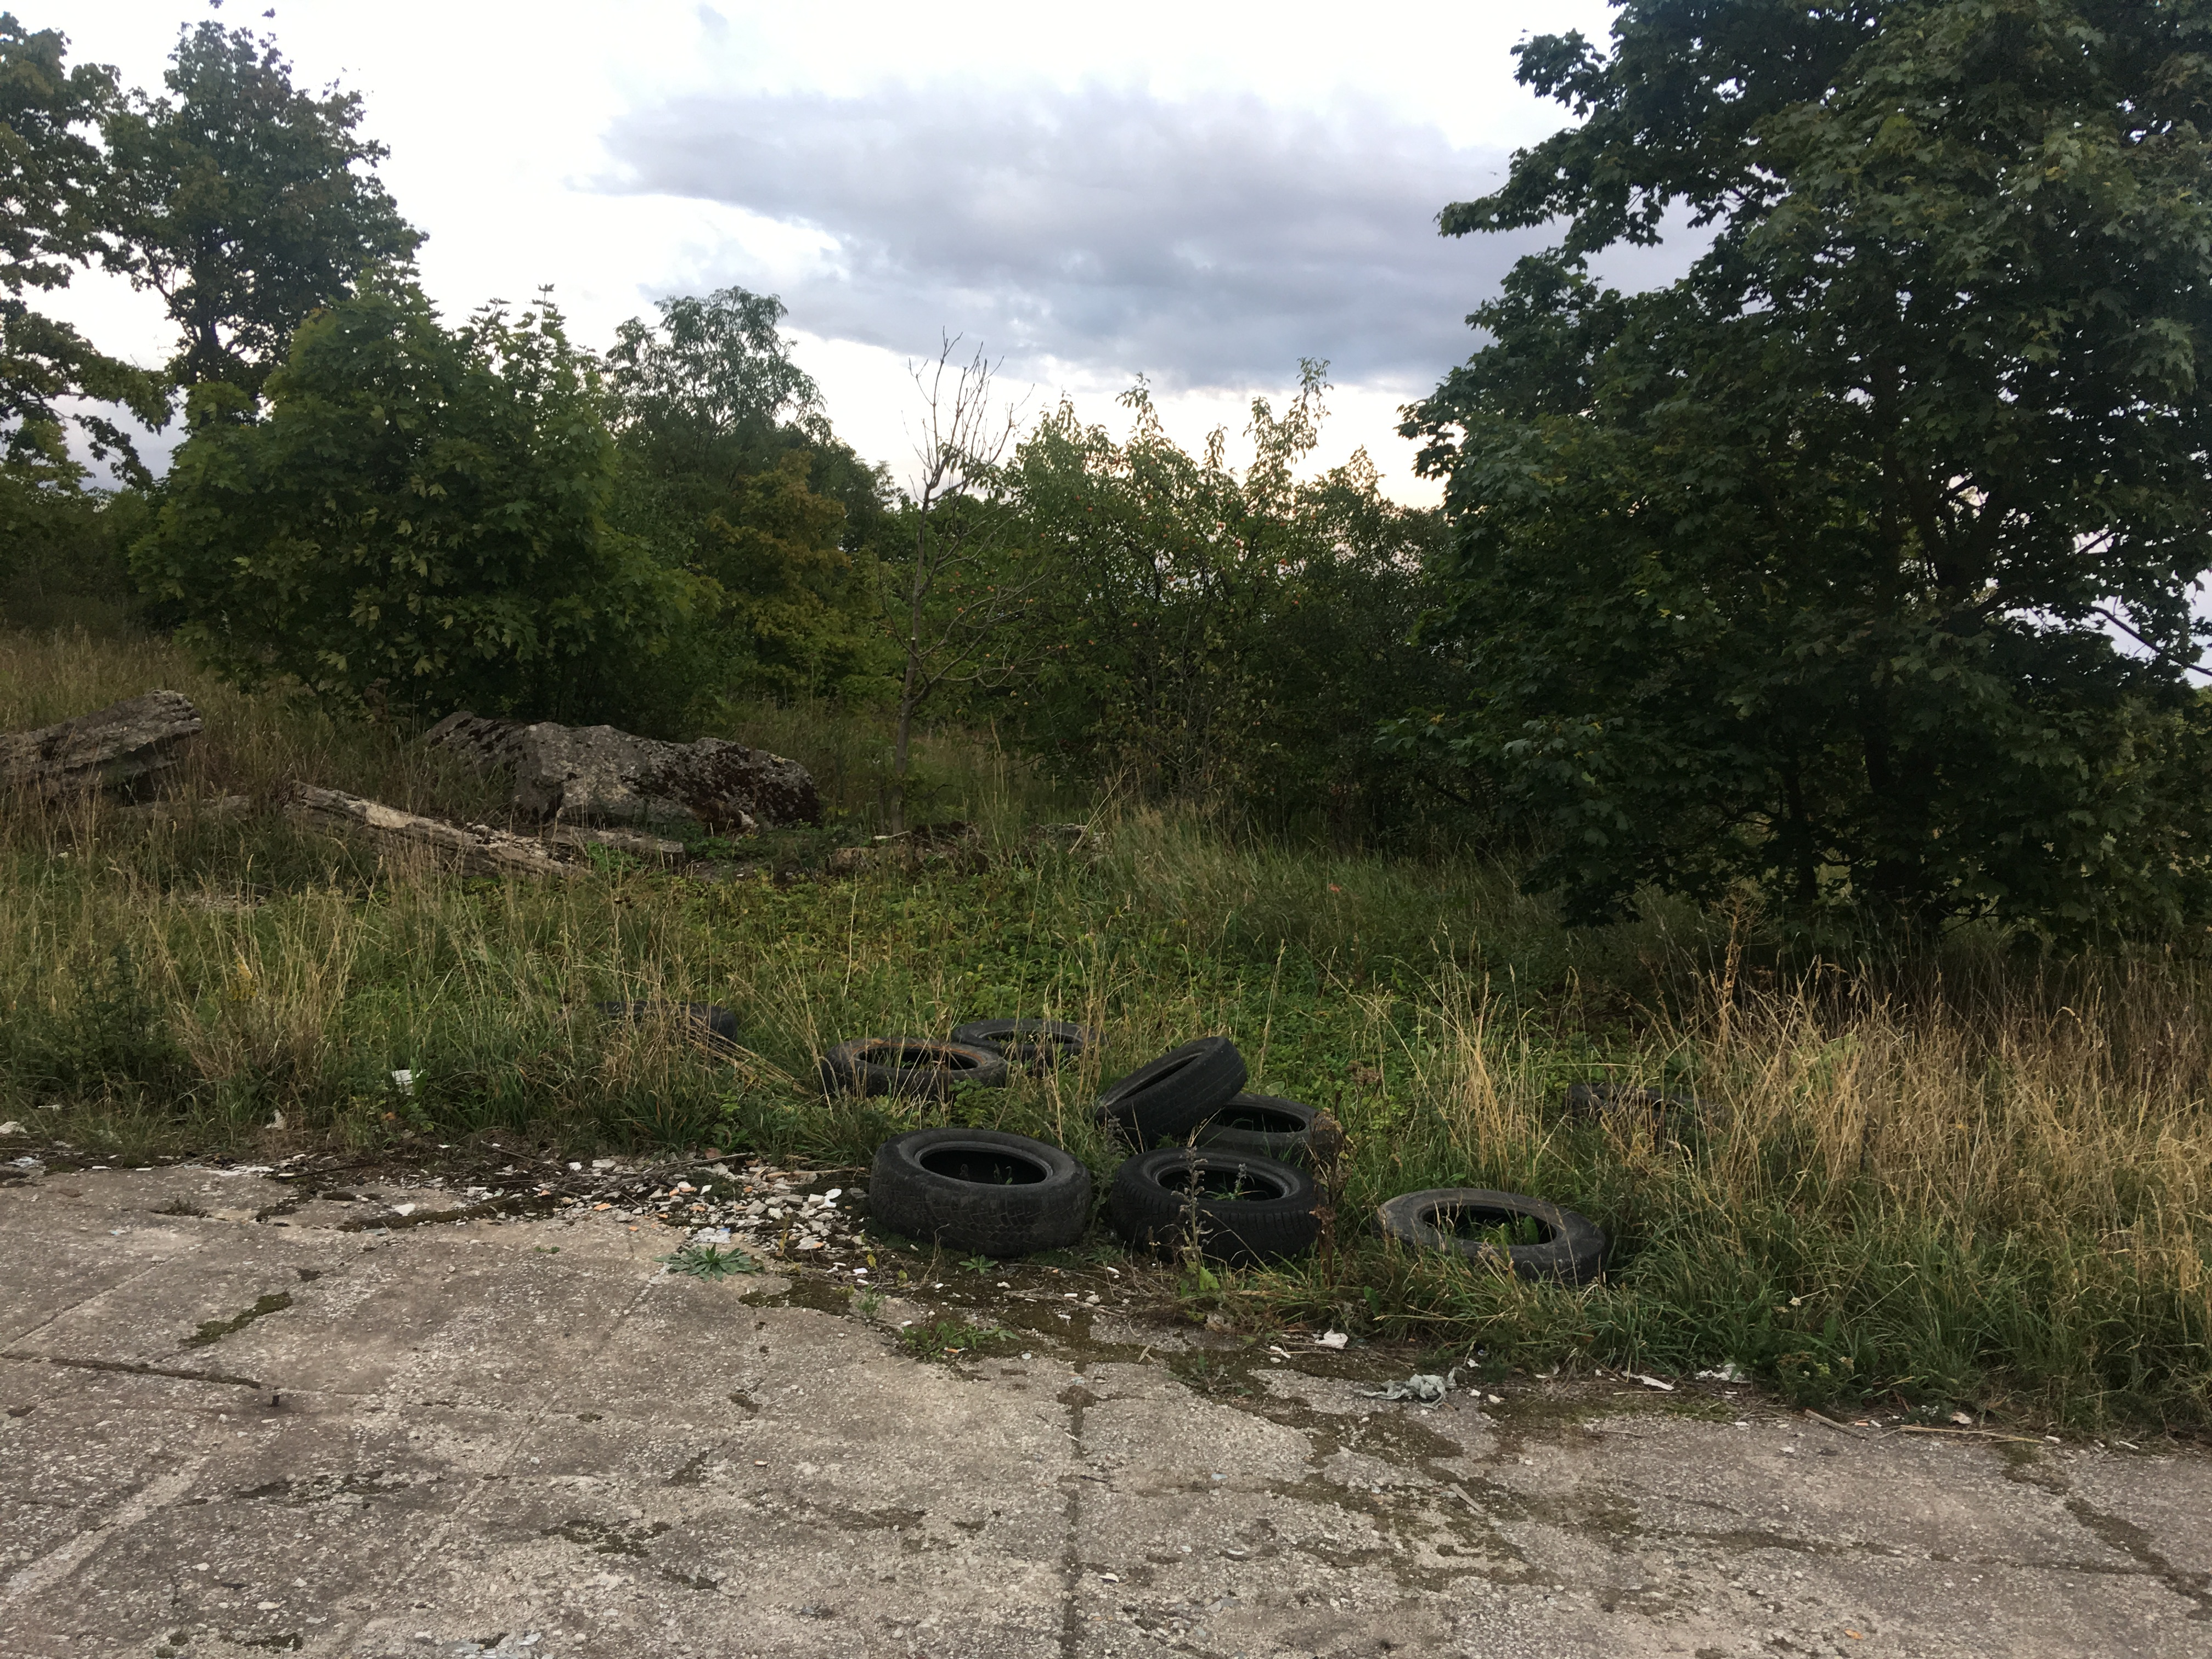trash: (782, 936, 1662, 1337)
